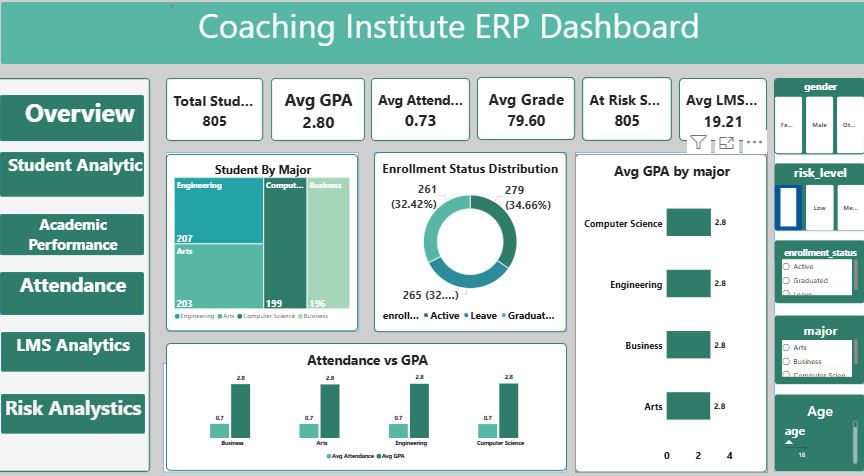

What the dashboard file says about the page in this screenshot:
{"tool":"powerbi","page":{"name":"Page 1","canvas":[1920,1080],"ordinal":0},"visuals":[{"type":"shape","box":[50.9,206.5,332.5,976.1],"z":0},{"type":"actionButton","box":[1980.8,1126.3,164.5,67.9],"z":1000},{"type":"actionButton","box":[50.9,756.2,311.1,85.8],"z":2000},{"type":"actionButton","box":[50.1,500.6,311.1,89.4],"z":3000},{"type":"actionButton","box":[50.1,243.1,311.1,100.1],"z":4000},{"type":"actionButton","box":[50.1,368.3,311.1,96.5],"z":5000},{"type":"actionButton","box":[50.1,625.7,311.1,93],"z":6000},{"type":"actionButton","box":[50.9,42.9,1869.1,134.1],"z":7000},{"type":"textbox","box":[50.9,42.9,1869.1,134.1],"z":8000},{"type":"textbox","box":[604.2,273.5,12.5,67.9],"z":9000},{"type":"actionButton","box":[50.9,890.3,311.1,85.8],"z":10000},{"type":"textbox","box":[50.9,244,311.1,99.2],"z":11000},{"type":"textbox","box":[50.9,367.4,311.1,96.5],"z":12000},{"type":"textbox","box":[50.9,501.5,311.1,88.5],"z":13000},{"type":"textbox","box":[50.9,624.8,311.1,93.9],"z":14000},{"type":"textbox","box":[50.9,756.2,311.1,85.8],"z":15000},{"type":"textbox","box":[50.9,890.3,311.1,85.8],"z":16000},{"type":"cardVisual","fields":{"Data":["Sheet1.Total Students"]},"box":[408.2,207.4,209.5,136.1],"z":17000},{"type":"cardVisual","fields":{"Data":["Sheet1.Avg GPA"]},"box":[635,207.4,203,136.1],"z":18000},{"type":"cardVisual","fields":{"Data":["Sheet1.Avg Attendance"]},"box":[851,207.4,213.8,136.1],"z":19000},{"type":"cardVisual","fields":{"Data":["Sheet1.Avg Grade"]},"box":[1080,205.2,211.7,136.1],"z":20000},{"type":"cardVisual","fields":{"Data":["Sheet1.At Risk Students"]},"box":[1306.8,205.2,194.4,138.2],"z":21000},{"type":"cardVisual","fields":{"Data":["Sheet1.Avg LMS Logins"]},"box":[1516.3,207.4,190.1,136.1],"z":22000},{"type":"shape","box":[407.6,367.4,415.6,388.8],"z":23000},{"type":"shape","box":[1292.5,367.4,415.6,691.8],"z":24000},{"type":"shape","box":[858.1,367.4,415.6,388.8],"z":25000},{"type":"shape","box":[402.2,823.2,871.5,236],"z":26000},{"type":"shape","box":[1721.5,207.4,198.7,851],"z":27000},{"type":"donutChart","title":"Enrollment Status Distribution","fields":{"Category":["Sheet1.enrollment_status"],"Y":["Sheet1.Student Count"]},"box":[858.1,367.4,415.6,388.8],"z":28000},{"type":"clusteredColumnChart","title":"Attendance vs GPA","fields":{"Category":["Sheet1.major"],"Y":["Sheet1.Avg Attendance","Sheet1.Avg GPA"]},"box":[407.6,780.3,866.1,276.2],"z":30000},{"type":"advancedSlicerVisual","fields":{"Values":["Sheet1.risk_level"]},"box":[1721.6,391.5,198.4,147.5],"z":31000},{"type":"listSlicer","fields":{"Values":["Sheet1.enrollment_status"]},"box":[1721.6,557.8,198.4,136.8],"z":32000},{"type":"listSlicer","fields":{"Values":["Sheet1.major"]},"box":[1721.6,718.7,198.4,150.2],"z":33000},{"type":"clusteredBarChart","fields":{"Category":["Sheet1.major"],"Y":["Sheet1.Avg GPA"]},"box":[1292.5,372.5,415,687.5],"z":34001},{"type":"treemap","title":"Student By Major","fields":{"Group":["Sheet1.major"],"Values":["Sheet1.Student Count"]},"box":[407.5,372.5,415,382.5],"z":34004},{"type":"advancedSlicerVisual","fields":{"Values":["Sheet1.gender"]},"box":[1722.5,207.5,197.5,165],"z":34005},{"type":"tableEx","title":"Age","fields":{"Values":["Sheet1.age"]},"box":[1721.5,889.9,196.6,168.5],"z":34006}]}

Visuals, with their boxes in screenshot pixels (x1, y1, x2, y2), scaled from the page's 1920x1080 canvas onto the 864x476 screenshot:
shape: l=23, t=91, r=173, b=475
actionButton: l=23, t=333, r=163, b=371
actionButton: l=23, t=221, r=163, b=260
actionButton: l=23, t=107, r=163, b=151
actionButton: l=23, t=162, r=163, b=205
actionButton: l=23, t=276, r=163, b=317
actionButton: l=23, t=19, r=863, b=78
textbox: l=23, t=19, r=863, b=78
textbox: l=272, t=121, r=278, b=150
actionButton: l=23, t=392, r=163, b=430
textbox: l=23, t=108, r=163, b=151
textbox: l=23, t=162, r=163, b=204
textbox: l=23, t=221, r=163, b=260
textbox: l=23, t=275, r=163, b=317
textbox: l=23, t=333, r=163, b=371
textbox: l=23, t=392, r=163, b=430
cardVisual - Sheet1.Total Students: l=184, t=91, r=278, b=151
cardVisual - Sheet1.Avg GPA: l=286, t=91, r=377, b=151
cardVisual - Sheet1.Avg Attendance: l=383, t=91, r=479, b=151
cardVisual - Sheet1.Avg Grade: l=486, t=90, r=581, b=150
cardVisual - Sheet1.At Risk Students: l=588, t=90, r=676, b=151
cardVisual - Sheet1.Avg LMS Logins: l=682, t=91, r=768, b=151
shape: l=183, t=162, r=370, b=333
shape: l=582, t=162, r=769, b=467
shape: l=386, t=162, r=573, b=333
shape: l=181, t=363, r=573, b=467
shape: l=775, t=91, r=863, b=466
"Enrollment Status Distribution" donutChart: l=386, t=162, r=573, b=333
"Attendance vs GPA" clusteredColumnChart: l=183, t=344, r=573, b=466
advancedSlicerVisual - Sheet1.risk_level: l=775, t=173, r=863, b=238
listSlicer - Sheet1.enrollment_status: l=775, t=246, r=863, b=306
listSlicer - Sheet1.major: l=775, t=317, r=863, b=383
clusteredBarChart - Sheet1.major x Sheet1.Avg GPA: l=582, t=164, r=768, b=467
"Student By Major" treemap: l=183, t=164, r=370, b=333
advancedSlicerVisual - Sheet1.gender: l=775, t=91, r=863, b=164
"Age" tableEx: l=775, t=392, r=863, b=466
